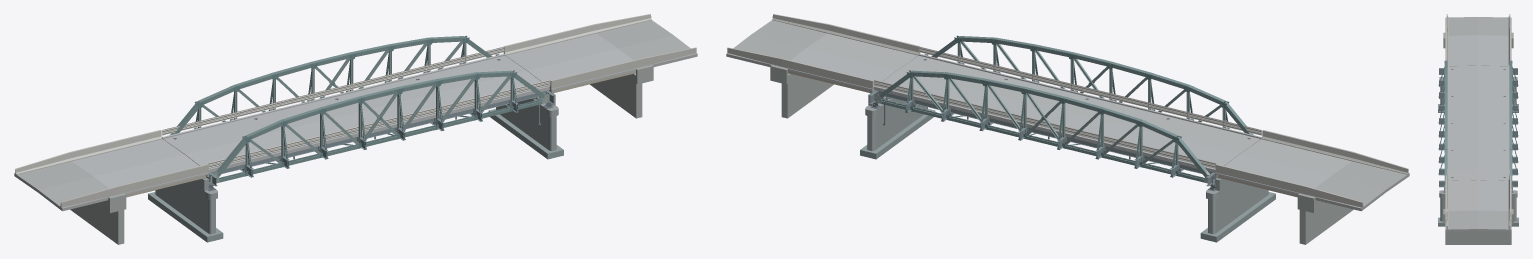
3 renders of one model, left to right at view 1: azimuth 30°, elevation 25°; view 2: azimuth 150°, elevation 25°; view 3: azimuth 270°, elevation 25°, orthographic. The views are drawn at different scales.
Parts seen in each view (by area): view 1: deck_B, deck_C, deck_A, approach1, approach4, pier2_stem, pier3_stem, abut1_stem, abut4_stem, metal_rail_X_1, metal_rail_X_0, curb_1 (+13 smaller); view 2: deck_B, deck_C, deck_A, approach1, approach4, pier2_stem, pier3_stem, abut1_stem, abut4_stem, metal_rail_Y_1, metal_rail_Y_0, curb_-1 (+13 smaller); view 3: deck_B, deck_C, deck_A, approach4, approach1, abut4_stem, pier3_stem, curb_-1, curb_1, Y_UC8, X_UC8, pier3_footing (+26 smaller).
Part boxes in pixels (x1=…): deck_B: x1=163, y1=55, x2=549, y2=172; deck_C: x1=506, y1=33, x2=641, y2=90; deck_A: x1=72, y1=139, x2=208, y2=194; approach1: x1=14, y1=161, x2=117, y2=211; approach4: x1=597, y1=20, x2=697, y2=67; pier2_stem: x1=155, y1=183, x2=215, y2=234; pier3_stem: x1=496, y1=100, x2=556, y2=150; abut1_stem: x1=70, y1=201, x2=124, y2=244; abut4_stem: x1=590, y1=76, x2=642, y2=118; metal_rail_X_1: x1=162, y1=47, x2=504, y2=132; metal_rail_X_0: x1=162, y1=49, x2=504, y2=135; curb_1: x1=162, y1=53, x2=505, y2=138; deck_B: x1=874, y1=55, x2=1260, y2=172; deck_C: x1=782, y1=33, x2=917, y2=90; deck_A: x1=1215, y1=139, x2=1351, y2=194; approach1: x1=1306, y1=161, x2=1409, y2=211; approach4: x1=726, y1=20, x2=826, y2=67; pier2_stem: x1=1208, y1=183, x2=1268, y2=234; pier3_stem: x1=867, y1=100, x2=927, y2=150; abut1_stem: x1=1299, y1=201, x2=1353, y2=244; abut4_stem: x1=781, y1=76, x2=833, y2=118; metal_rail_Y_1: x1=919, y1=47, x2=1261, y2=132; metal_rail_Y_0: x1=919, y1=49, x2=1261, y2=135; curb_-1: x1=918, y1=53, x2=1261, y2=138; deck_B: x1=1448, y1=65, x2=1508, y2=180; deck_C: x1=1445, y1=180, x2=1511, y2=210; deck_A: x1=1445, y1=35, x2=1511, y2=66; approach4: x1=1445, y1=210, x2=1511, y2=231; approach1: x1=1445, y1=17, x2=1511, y2=35; abut4_stem: x1=1445, y1=231, x2=1511, y2=244; pier3_stem: x1=1440, y1=198, x2=1516, y2=221; curb_-1: x1=1447, y1=65, x2=1448, y2=179; curb_1: x1=1508, y1=65, x2=1509, y2=179; Y_UC8: x1=1444, y1=150, x2=1447, y2=185; X_UC8: x1=1509, y1=150, x2=1512, y2=185; pier3_footing: x1=1438, y1=217, x2=1518, y2=226.
Bounding box in the file's own units: 71.78 × 11.04 × 11.58.
